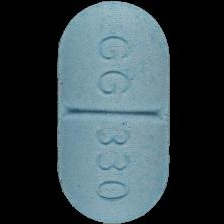51655-299: (0, 0, 224, 224)
